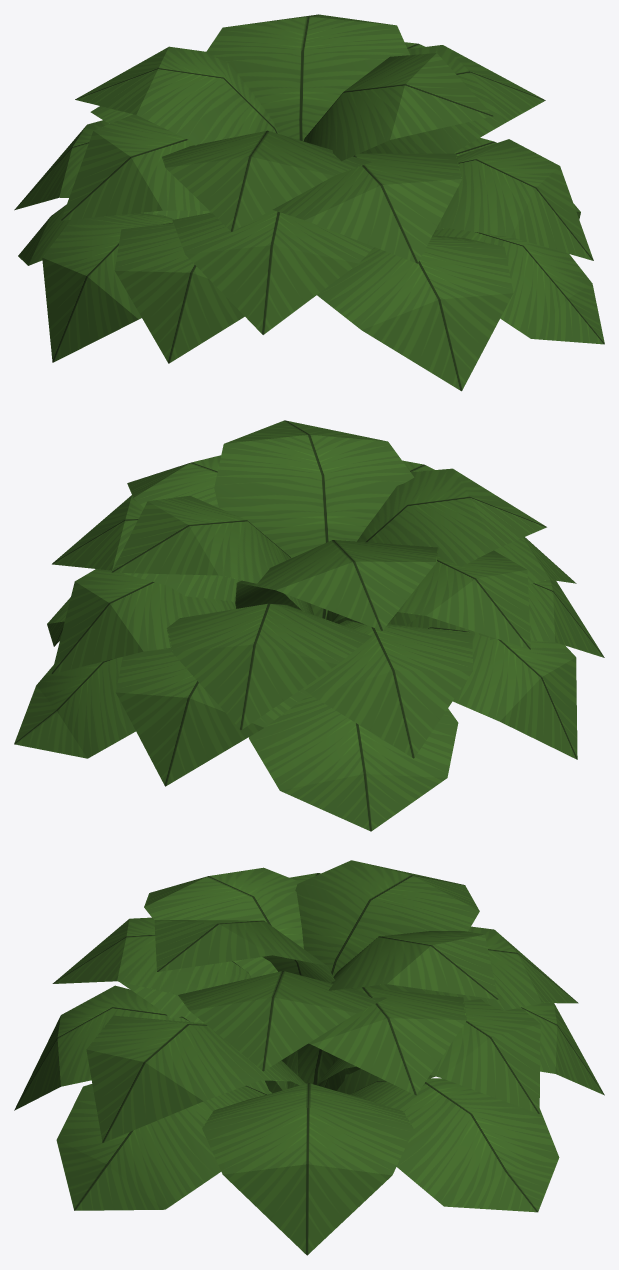
The model's file is Bush.fbx.
3 views of the same model, one above another, from view 1: azimuth 30°, elevation 25°; view 2: azimuth 150°, elevation 25°; view 3: azimuth 270°, elevation 25° (orthographic). The views are drawn at different scales.
Visible parts, largest first — view 1: Bush; view 2: Bush; view 3: Bush.
Part boxes in pixels (<box>): Bush: <box>14,14,604,391</box>; Bush: <box>14,420,604,831</box>; Bush: <box>14,860,604,1255</box>.
Bounding box in the file's own units: 4.49 × 1.92 × 4.48.
Materials: 1 (1 with a texture image).
